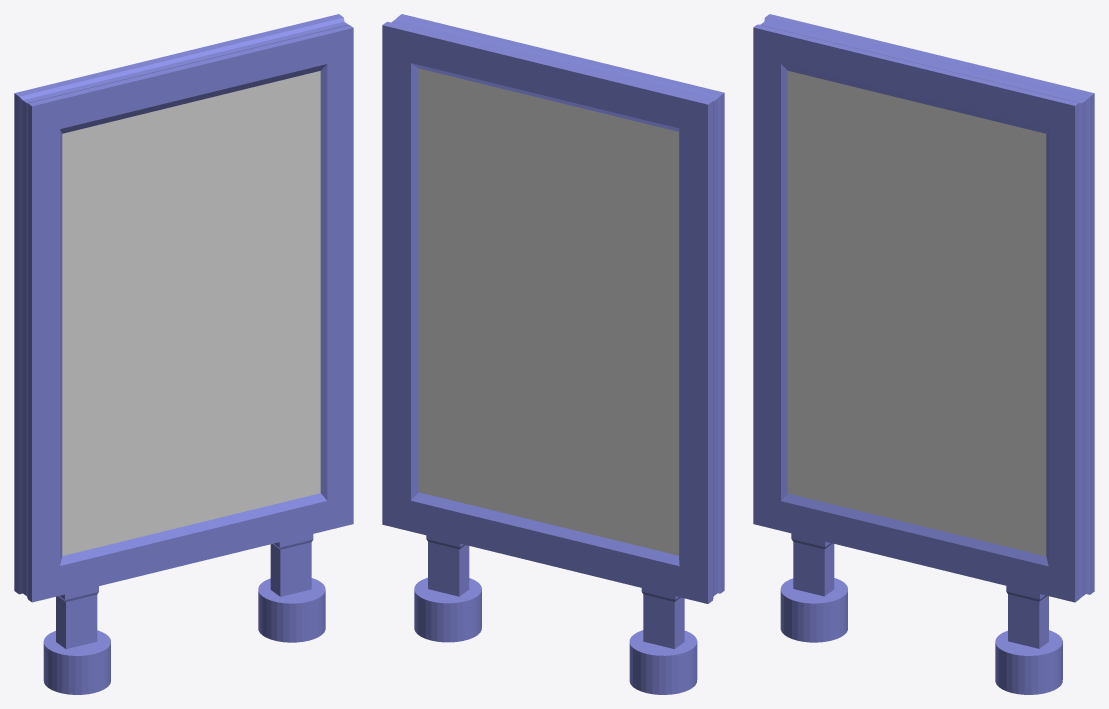
Rendered from panneau pub.fbx.
The picture shows the model from 3 angles, left to right: view 1: azimuth 30°, elevation 25°; view 2: azimuth 150°, elevation 25°; view 3: azimuth 330°, elevation 25°; orthographic projection.
Parts seen in each view (by area): view 1: Plane; view 2: Plane; view 3: Plane.
Part boxes in pixels (<box>): Plane: <box>14,14,353,694</box>; Plane: <box>382,14,724,694</box>; Plane: <box>753,14,1094,694</box>.
Size of the model in its own units: 250 by 438 by 45.14.
